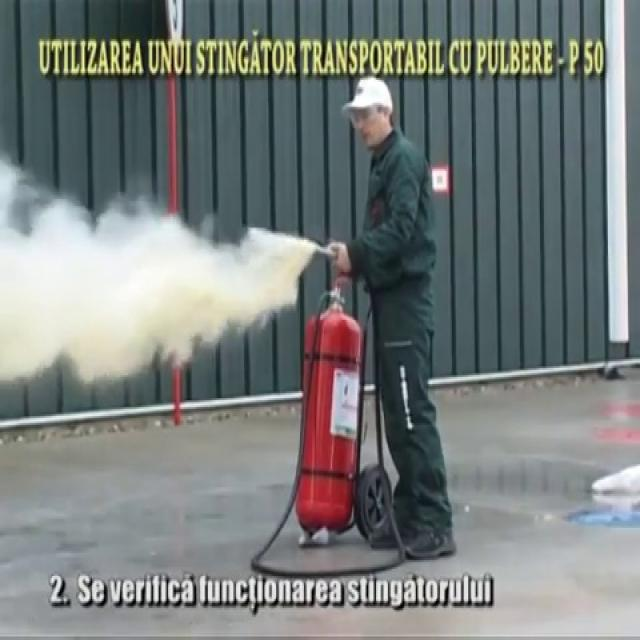Smoke: (0, 194, 265, 438)
